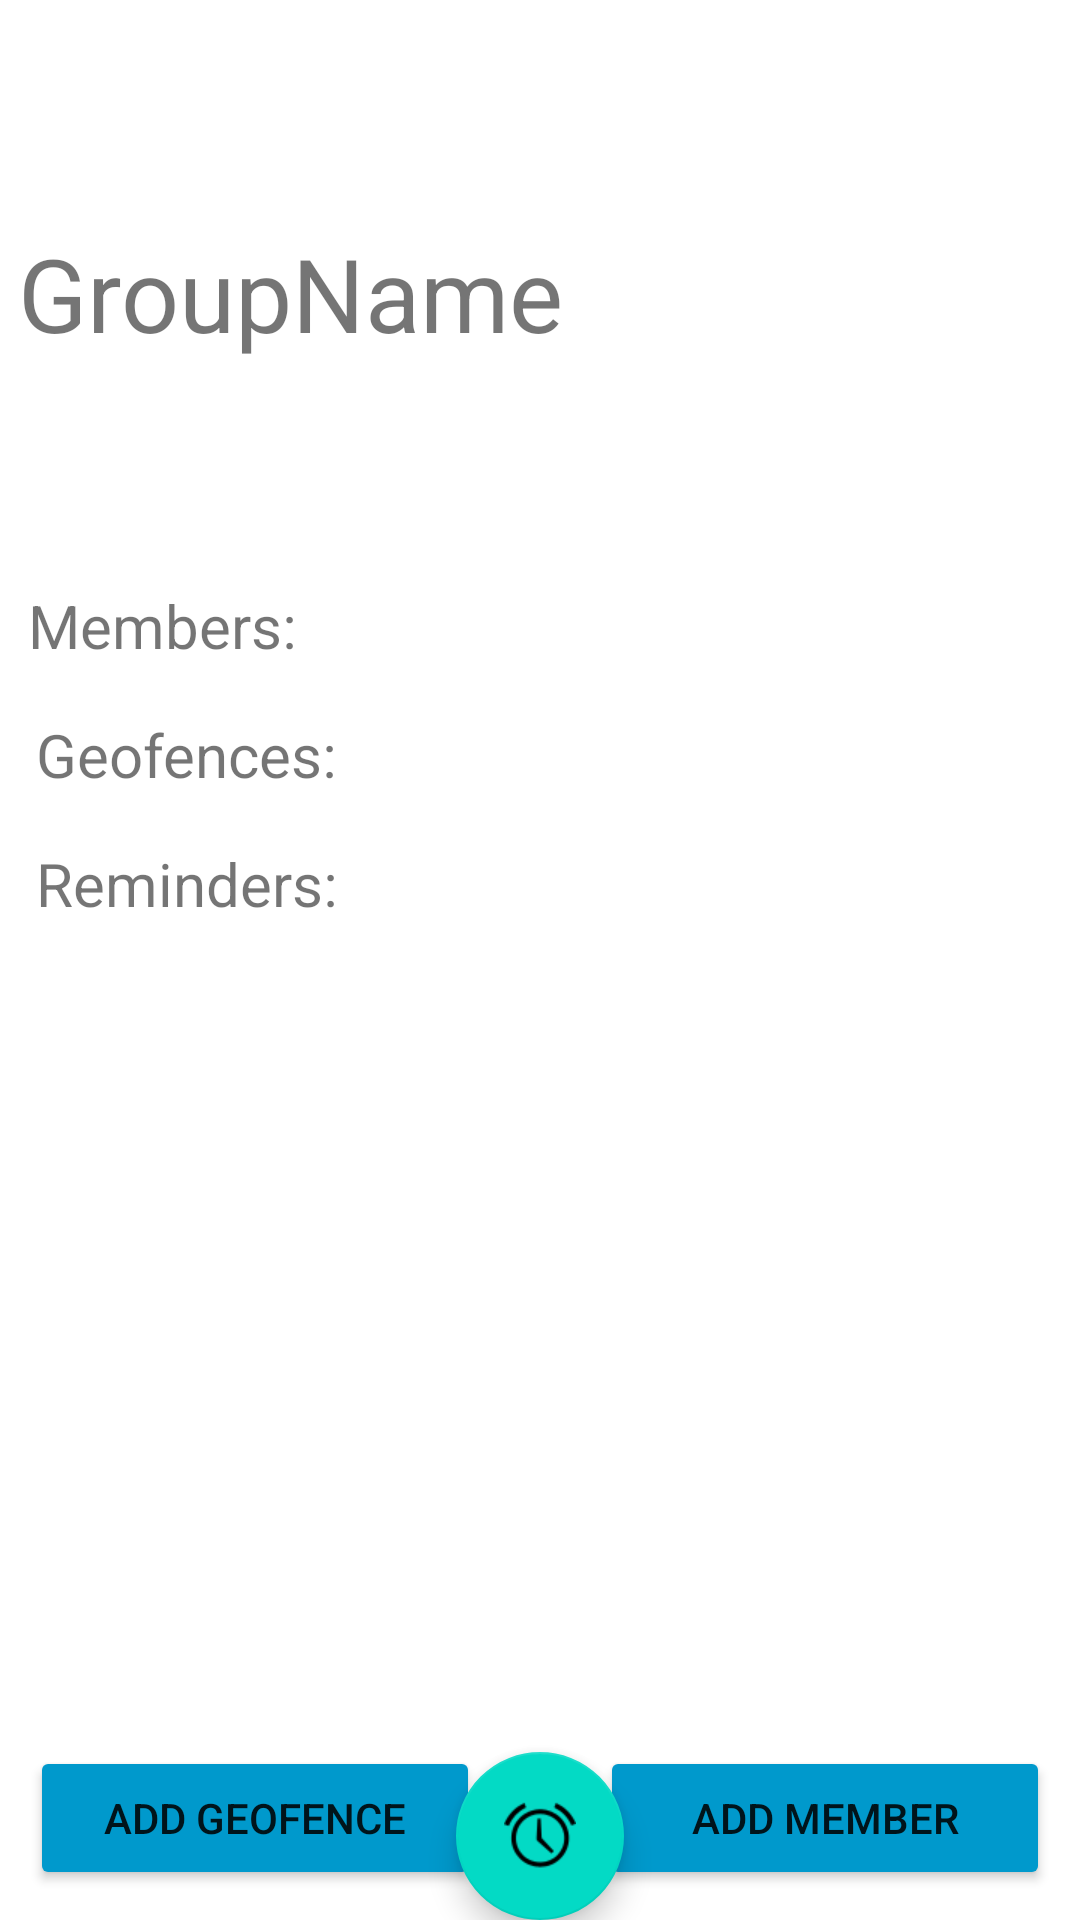

Point at icon controls on the screen. Image size 1080w x 1920h, points as point (x, y).
lock idle alarm: point (540, 1836)
